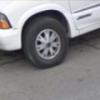cars: (0, 0, 100, 68)
